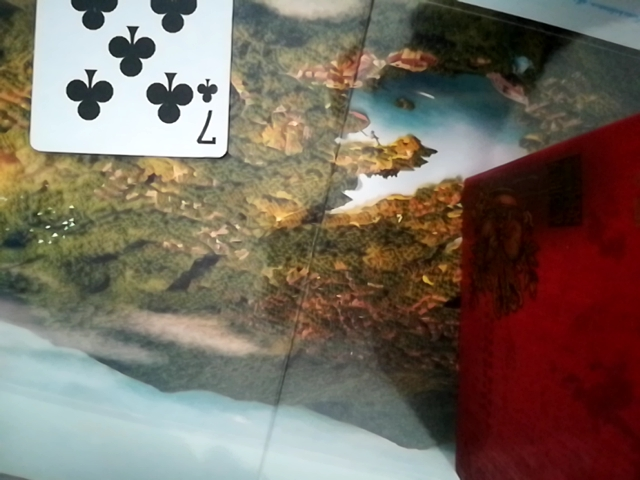mh 7: (26, 0, 234, 161)
